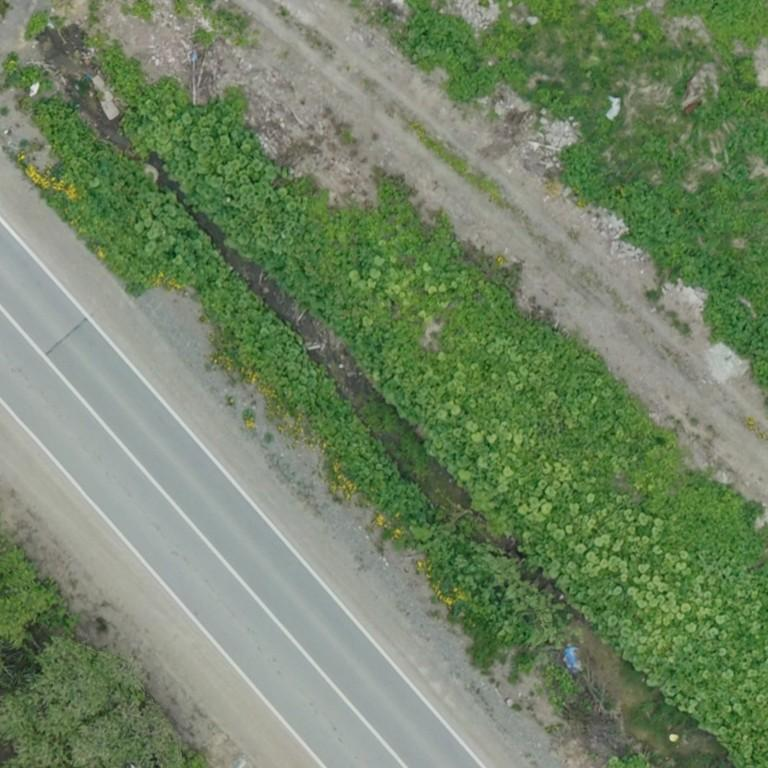hogweed: (562, 146, 767, 358), (313, 394, 424, 519), (402, 10, 495, 94)
